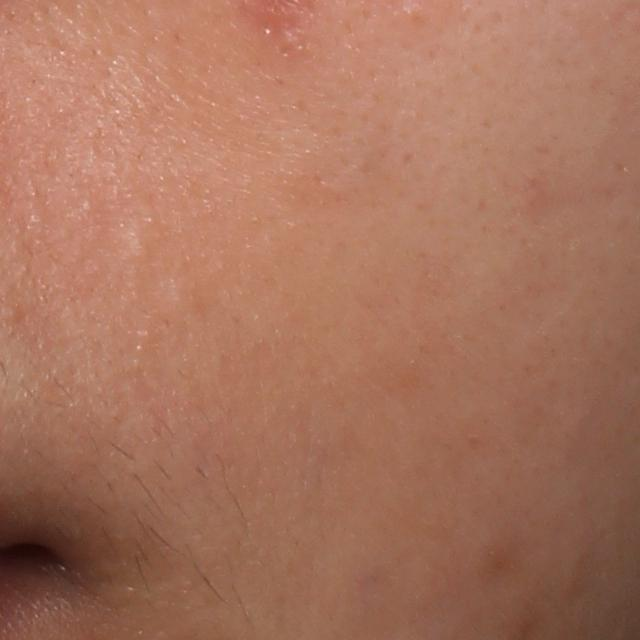comedo: (123, 231, 153, 258)
